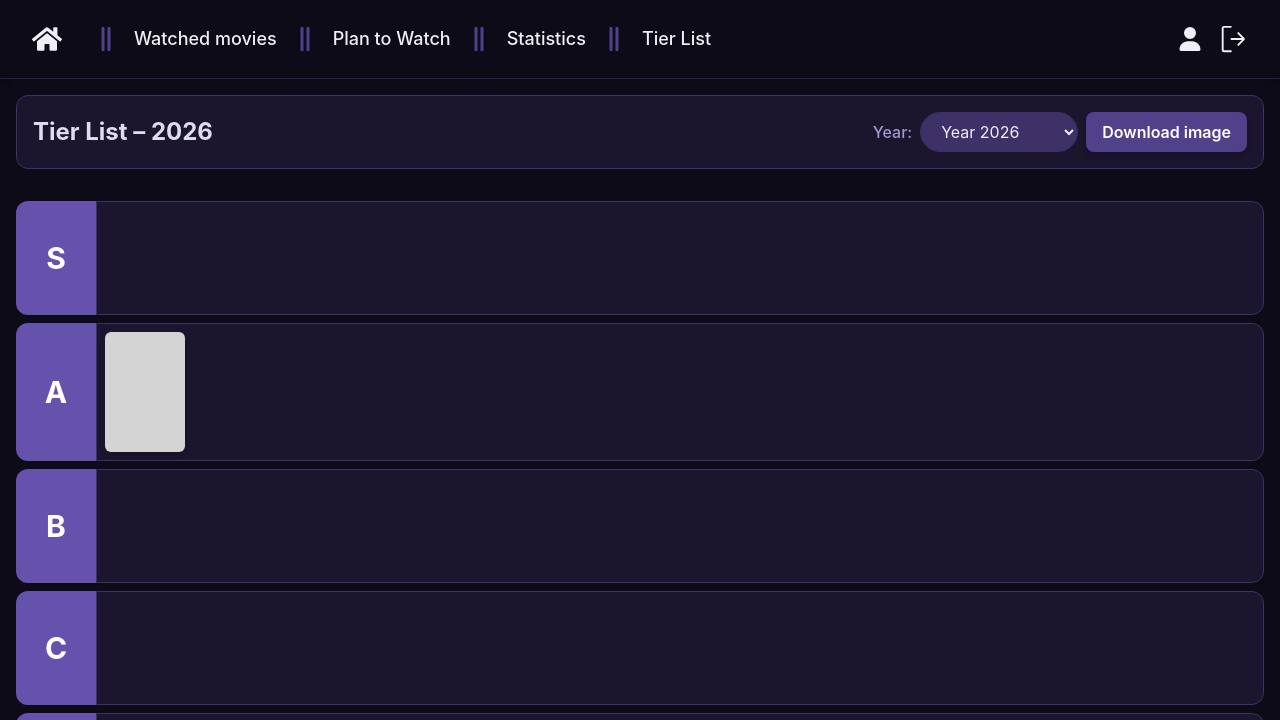
Test: TierList › says there are no movies with a tier when "All years" has none
Select "Year All years" in the dropdown at (999, 132), box [921,113,1077,151]
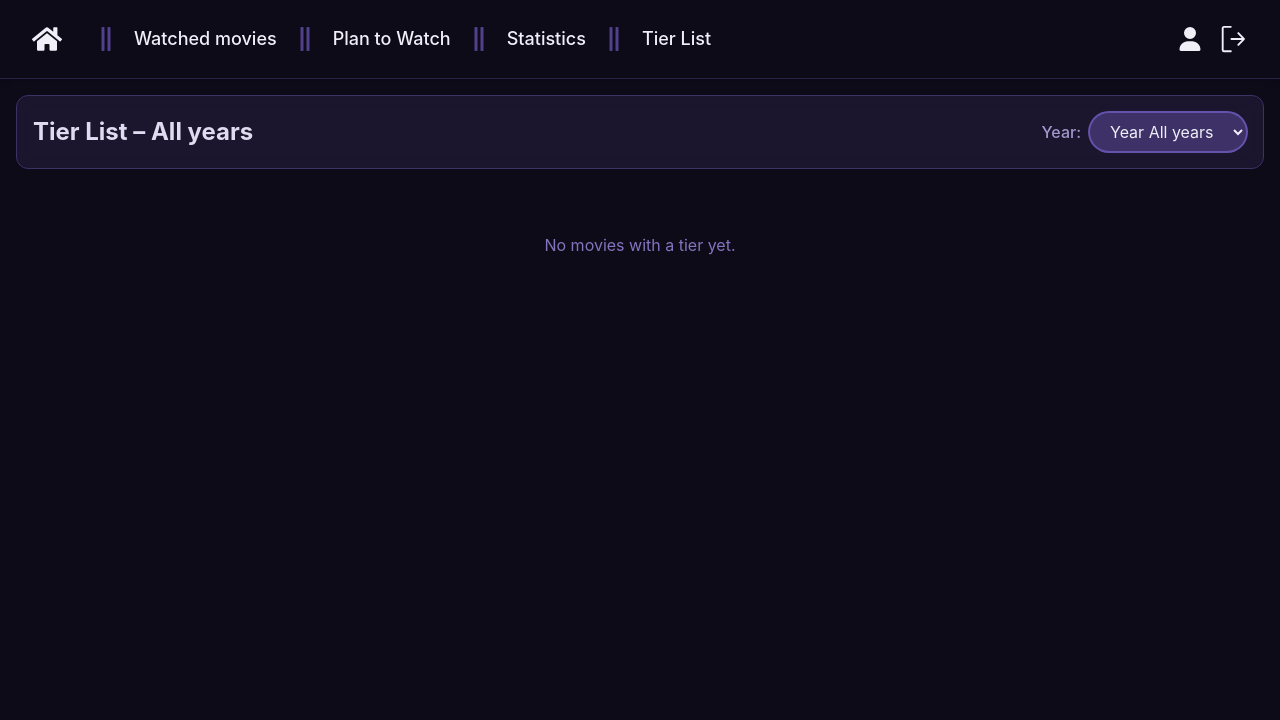
Result: the text "No movies with a tier yet." is shown at [544,235,736,255]
